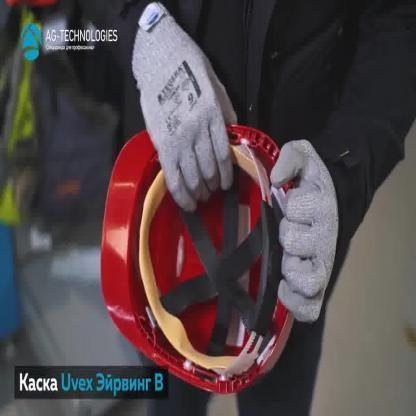gloves: (131, 3, 239, 211), (270, 137, 340, 324)
helmet: (99, 123, 302, 398)
